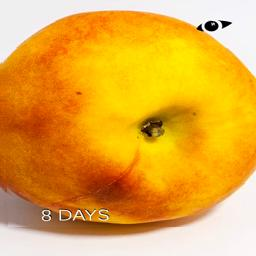Peach Semifresh: (0, 7, 256, 227)
